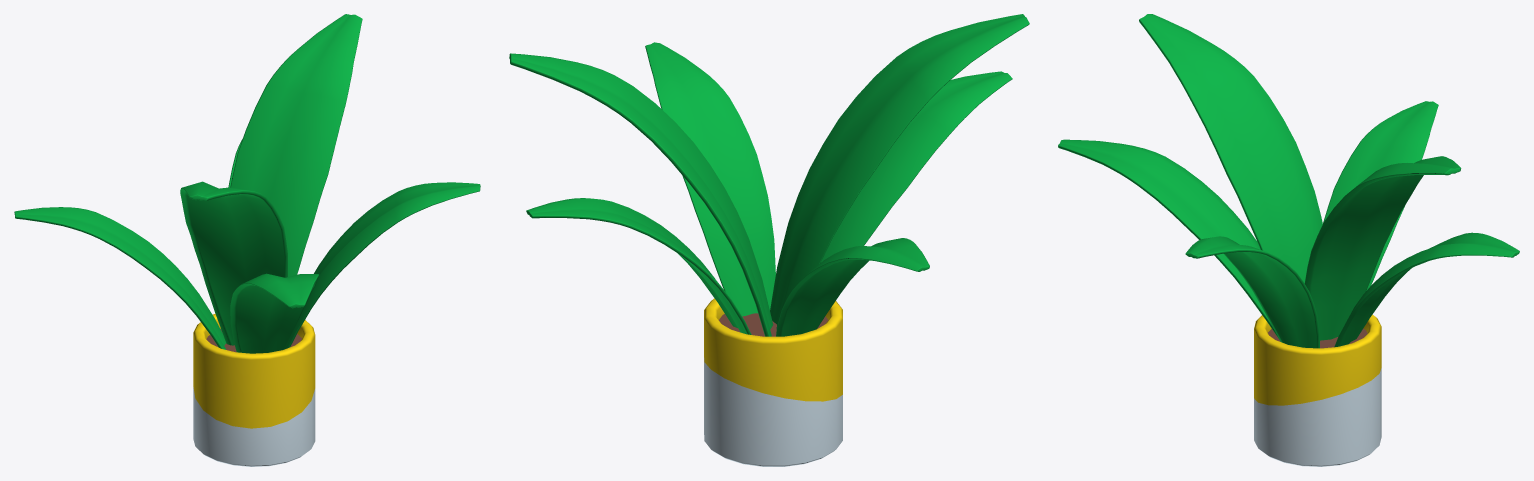
File: Store_6_Plant_10.glb
3 views of the same model, side by side, from view 1: azimuth 30°, elevation 25°; view 2: azimuth 150°, elevation 25°; view 3: azimuth 270°, elevation 25° (orthographic). The views are drawn at different scales.
Parts seen in each view (by area): view 1: Store_6_Plant_10; view 2: Store_6_Plant_10; view 3: Store_6_Plant_10.
Boxes of the visible parts, bbox=[...] form: Store_6_Plant_10: bbox=[14, 14, 480, 466]; Store_6_Plant_10: bbox=[509, 14, 1029, 466]; Store_6_Plant_10: bbox=[1058, 14, 1519, 466].
Bounding box in the file's own units: 1.12 × 1.02 × 1.2.
Materials: 1 (1 with a texture image).
